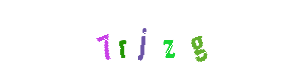7: (65, 0, 145, 80)
G: (134, 0, 214, 80)
J: (107, 0, 187, 80)
R: (102, 0, 182, 80)
Z: (125, 0, 205, 80)
